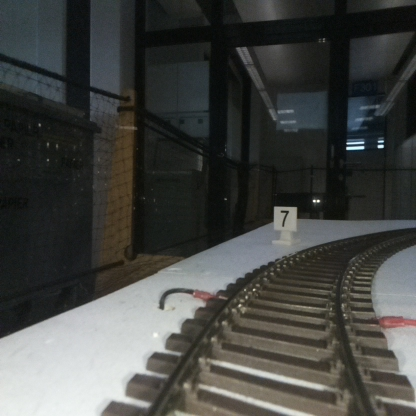white-stop-7: (274, 206, 296, 240)
